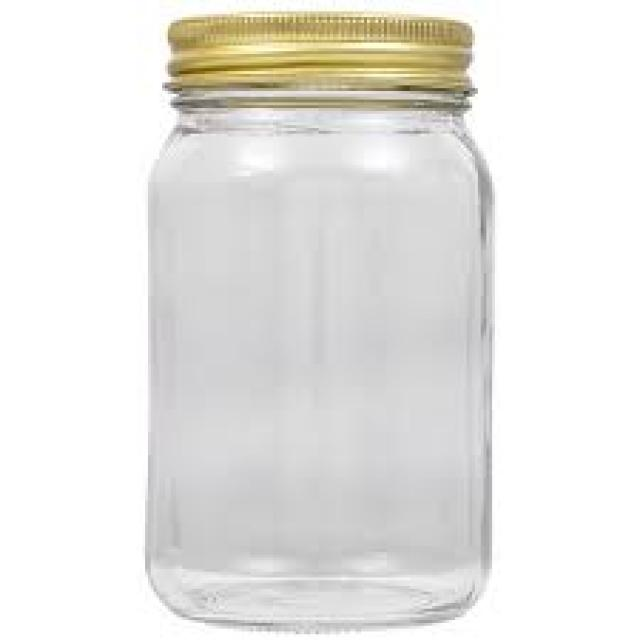glass: (142, 85, 492, 629)
metal: (165, 12, 469, 89)
